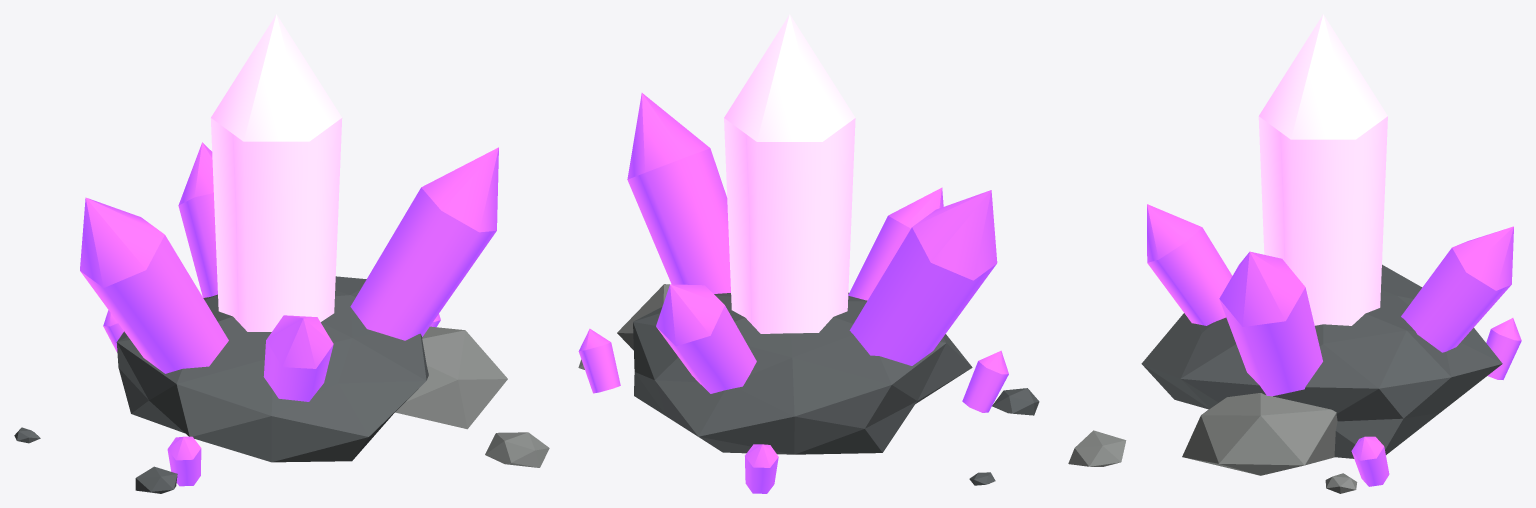
The model's file is CrystalShadow.glb.
3 renders of one model, left to right at view 1: azimuth 30°, elevation 25°; view 2: azimuth 150°, elevation 25°; view 3: azimuth 270°, elevation 25°, orthographic.
Parts seen in each view (by area): view 1: Glow, Body, GlowCore; view 2: Glow, GlowCore, Body; view 3: Body, GlowCore, Glow.
Part boxes in pixels (x1,y1,x2,y2): Glow: (80,142,498,486); Body: (14,276,549,493); GlowCore: (210,14,342,331); Glow: (578,93,1008,493); GlowCore: (724,14,855,333); Body: (578,284,1039,485); Body: (1068,264,1502,493); GlowCore: (1258,14,1387,325); Glow: (1147,204,1521,486).
Size of the model in its own units: 4.7 by 4.16 by 4.35.
3 materials, 1 textured.
